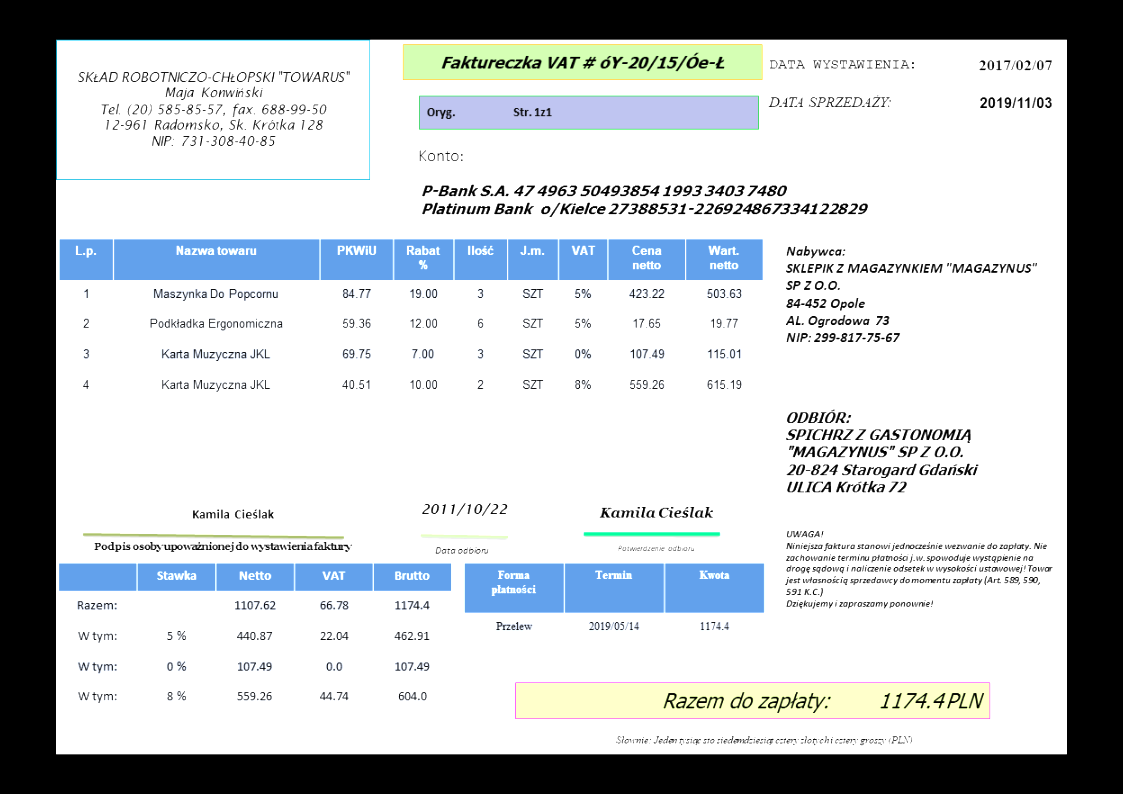Table: (58, 237, 764, 403), (58, 562, 454, 714), (463, 561, 765, 651)
TextBox: (783, 242, 1040, 347), (783, 528, 1056, 611), (75, 68, 353, 149), (785, 409, 982, 496), (419, 181, 869, 218), (661, 686, 987, 714), (439, 51, 728, 75), (614, 731, 915, 748), (90, 537, 354, 555), (765, 56, 917, 73), (424, 104, 553, 123), (598, 502, 717, 521), (767, 93, 894, 110), (420, 500, 510, 518), (977, 55, 1054, 75), (977, 93, 1054, 112), (189, 507, 276, 522), (615, 542, 696, 554), (415, 148, 465, 166), (432, 545, 489, 557)
